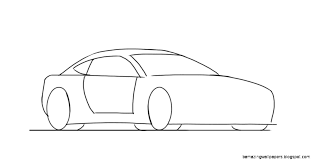car: (34, 46, 281, 133)
